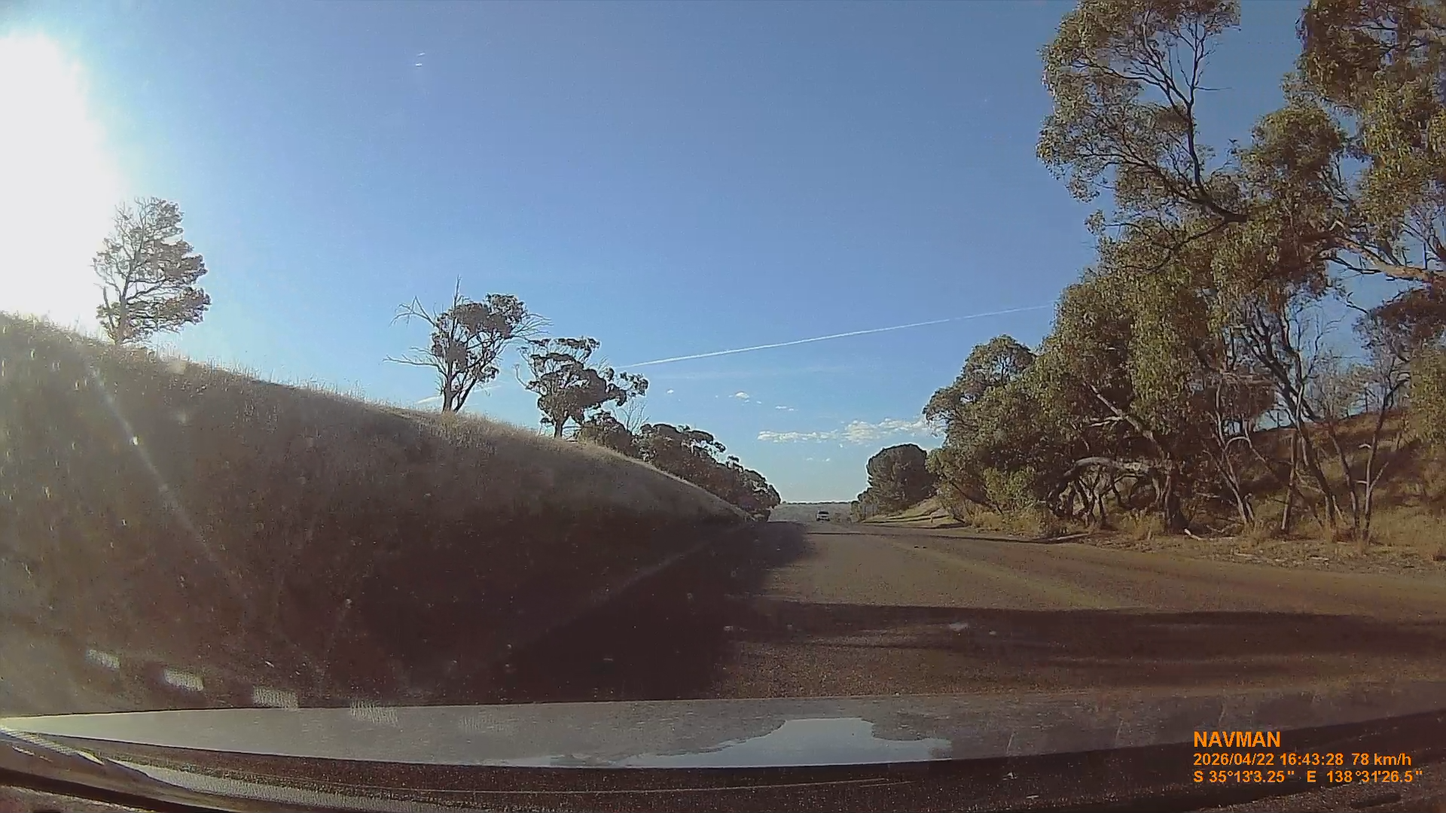road barriers: (3, 319, 778, 707)
